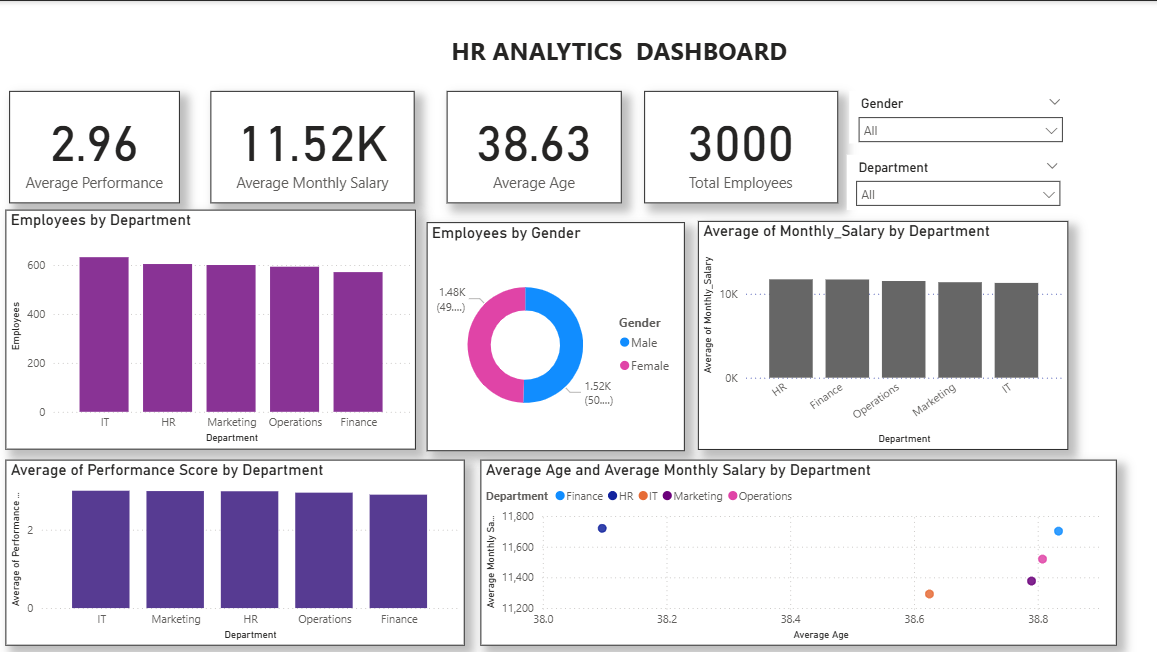

The page's visual inventory and layout, read from the dashboard file:
{"tool":"powerbi","page":{"name":"Page 1","canvas":[1280,720],"ordinal":0},"visuals":[{"type":"card","fields":{"Values":["CountNonNull(BDM.National_ID Clean)"]},"box":[709.8,99.5,212.4,123.1],"z":0},{"type":"card","fields":{"Values":["Avg(BDM.Age Clean)"]},"box":[492.3,99.5,192.2,123.1],"z":1},{"type":"card","fields":{"Values":["Avg(BDM.Monthly_Salary Clean)"]},"box":[232.7,99.5,224.2,123.1],"z":2},{"type":"card","fields":{"Values":["Avg(BDM.Performance Score Clean)"]},"box":[11.8,99.5,187.1,123.1],"z":3},{"type":"clusteredColumnChart","fields":{"Category":["BDM.Department"],"Y":["CountNonNull(BDM.National_ID Clean)"]},"box":[8.4,229.3,450.2,263],"z":4},{"type":"donutChart","fields":{"Category":["BDM.Gender"],"Y":["CountNonNull(BDM.National_ID Clean)"]},"box":[470.4,242.8,283.3,251.2],"z":5},{"type":"clusteredColumnChart","fields":{"Category":["BDM.Department"],"Y":["Avg(BDM.Monthly_Salary Clean)"]},"box":[768.8,241.1,406.3,251.2],"z":6},{"type":"clusteredColumnChart","fields":{"Category":["BDM.Department"],"Y":["Avg(BDM.Performance Score Clean)"]},"box":[8.4,504.1,504.1,204],"z":7},{"type":"scatterChart","fields":{"X":["Avg(BDM.Age Clean)"],"Y":["Avg(BDM.Monthly_Salary Clean)"],"Series":["BDM.Department"]},"box":[529.4,504.1,698,204],"z":8},{"type":"slicer","fields":{"Values":["BDM.Department"]},"box":[932.4,168.6,244.5,60.7],"z":9},{"type":"slicer","fields":{"Values":["BDM.Gender"]},"box":[934.1,99.5,244.5,57.3],"z":10},{"type":"textbox","box":[492.3,13.5,480.5,74.2],"z":11}]}

Visuals, with their boxes in screenshot pixels (x1, y1, x2, y2), scaled from the page's 1280x720 canvas onto the 1157x652 screenshot:
card - CountNonNull(BDM.National_ID Clean): 642:90:834:202
card - Avg(BDM.Age Clean): 445:90:619:202
card - Avg(BDM.Monthly_Salary Clean): 210:90:413:202
card - Avg(BDM.Performance Score Clean): 11:90:180:202
clusteredColumnChart - BDM.Department x CountNonNull(BDM.National_ID Clean): 8:208:415:446
donutChart - BDM.Gender x CountNonNull(BDM.National_ID Clean): 425:220:681:447
clusteredColumnChart - BDM.Department x Avg(BDM.Monthly_Salary Clean): 695:218:1062:446
clusteredColumnChart - BDM.Department x Avg(BDM.Performance Score Clean): 8:456:463:641
scatterChart - Avg(BDM.Age Clean) x Avg(BDM.Monthly_Salary Clean): 479:456:1109:641
slicer - BDM.Department: 843:153:1064:208
slicer - BDM.Gender: 844:90:1065:142
textbox: 445:12:879:79
